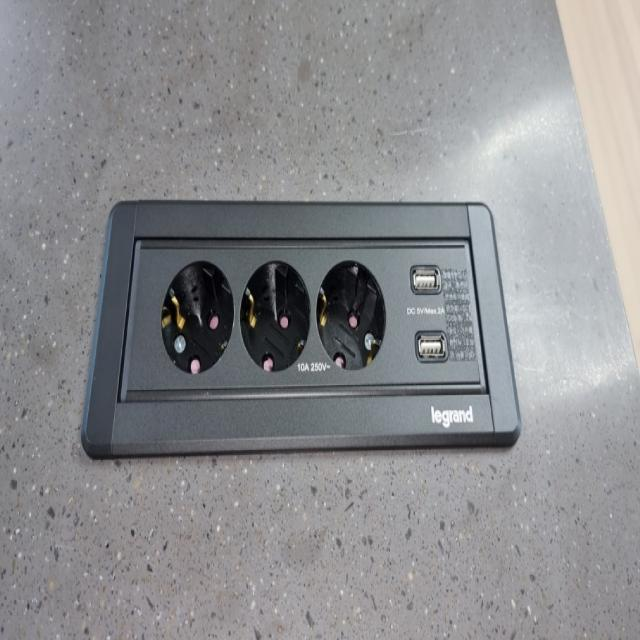typeb: (58, 170, 581, 492)
